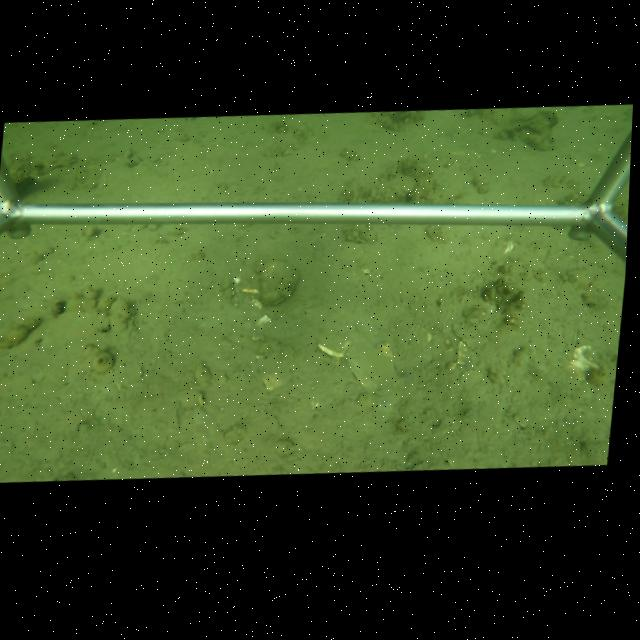Oyster-Closed: (257, 260, 300, 308), (506, 110, 541, 128)
